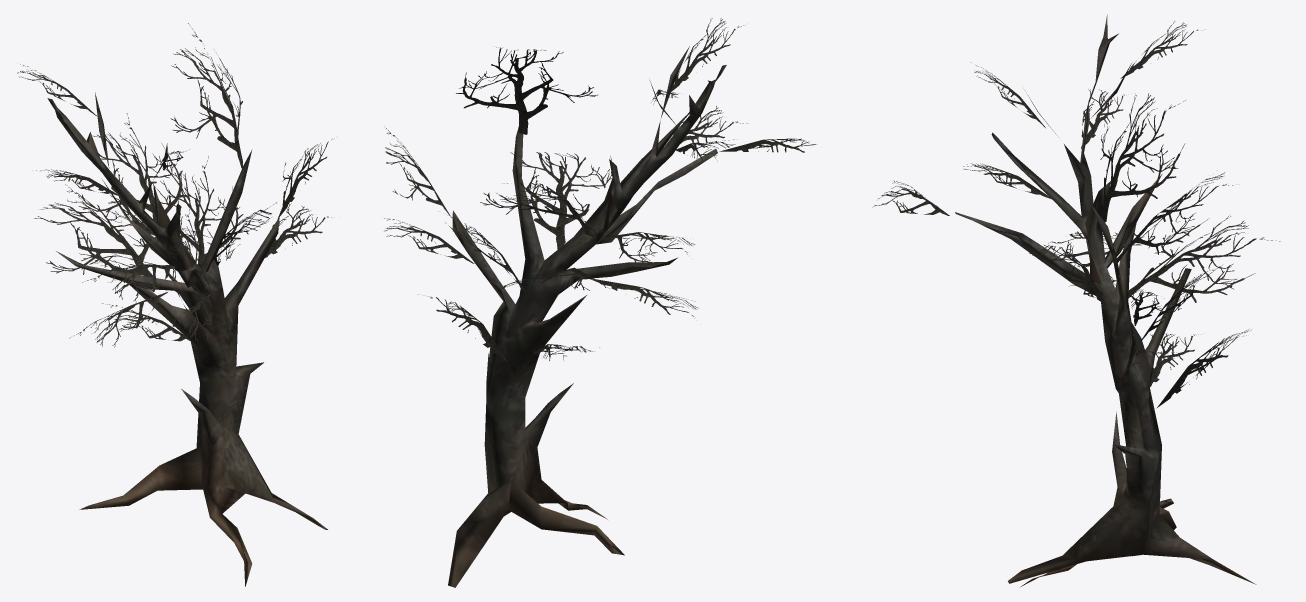
The picture shows the model from 3 angles, left to right: view 1: azimuth 30°, elevation 25°; view 2: azimuth 150°, elevation 25°; view 3: azimuth 270°, elevation 25°; orthographic projection. The views are drawn at different scales.
Parts seen in each view (by area): view 1: tree3; view 2: tree3; view 3: tree3.
Part boxes in pixels (<box>): tree3: <box>17,23,334,586</box>; tree3: <box>384,18,816,587</box>; tree3: <box>872,14,1280,586</box>.
Size of the model in its own units: 4.79 by 7.17 by 5.47.
Materials: 1 (1 with a texture image).
